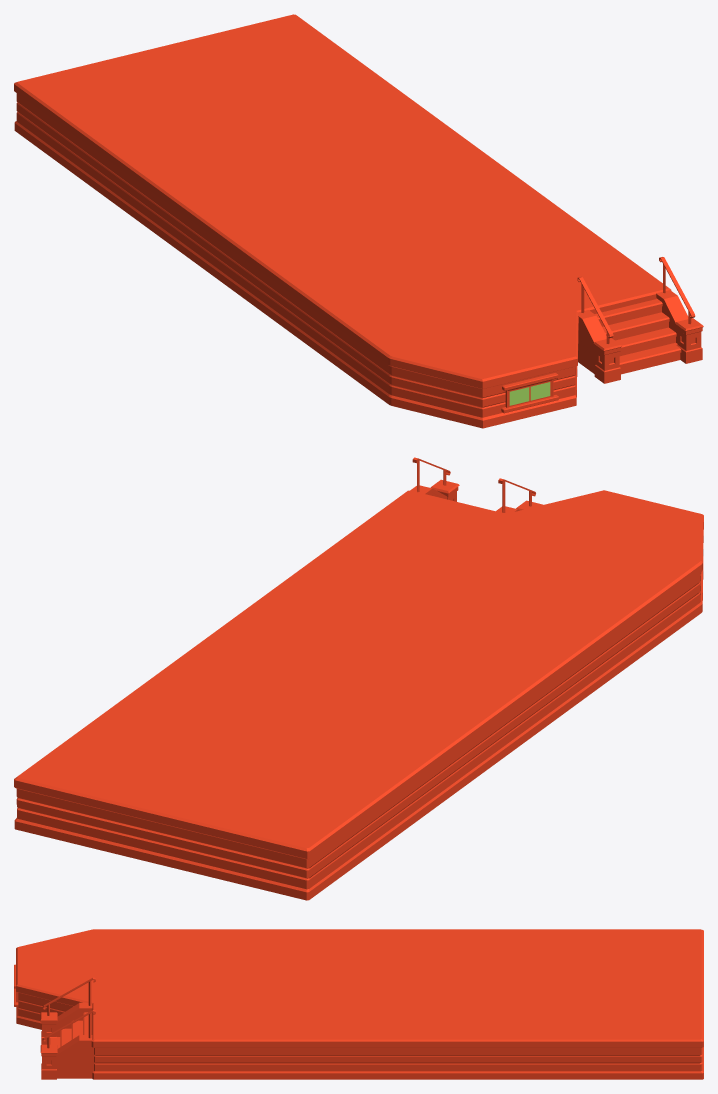
Rendered from SM_Bayhouse_Bottom_Small_A_F_City.fbx.
3 views of the same model, one above another, from view 1: azimuth 30°, elevation 25°; view 2: azimuth 150°, elevation 25°; view 3: azimuth 270°, elevation 25° (orthographic). The views are drawn at different scales.
Parts seen in each view (by area): view 1: SM_Bayhouse_Bottom_Small_A_F_City; view 2: SM_Bayhouse_Bottom_Small_A_F_City; view 3: SM_Bayhouse_Bottom_Small_A_F_City.
Boxes of the visible parts, <box> form: SM_Bayhouse_Bottom_Small_A_F_City: <box>14,14,703,428</box>; SM_Bayhouse_Bottom_Small_A_F_City: <box>14,457,703,900</box>; SM_Bayhouse_Bottom_Small_A_F_City: <box>14,929,703,1079</box>.
Bounding box in the file's own units: 6.08 × 1.67 × 15.83.
